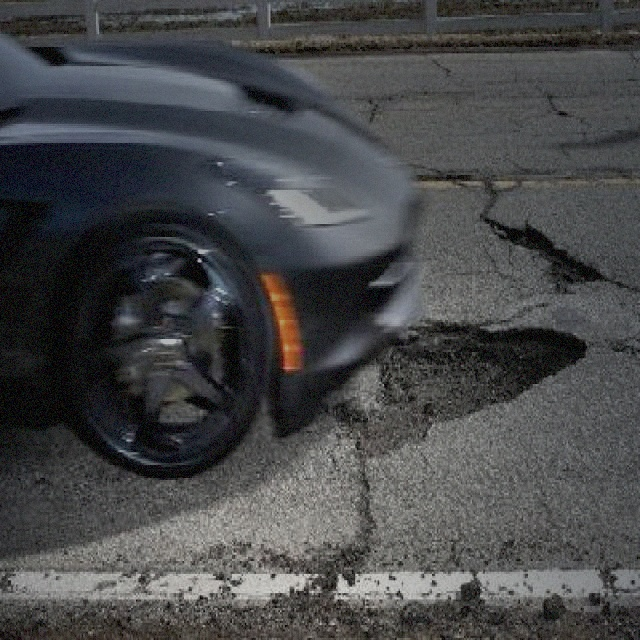pothole: (327, 316, 588, 456), (494, 218, 602, 288)
